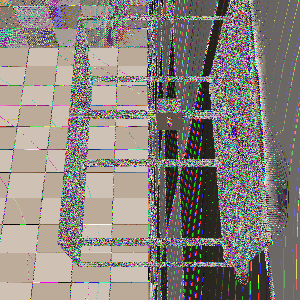Rack: (26, 33, 244, 286)
